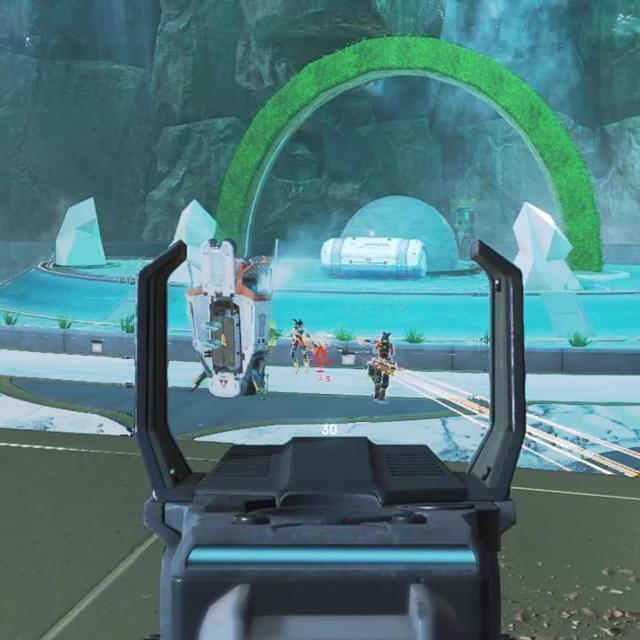avatar: (365, 331, 396, 402)
